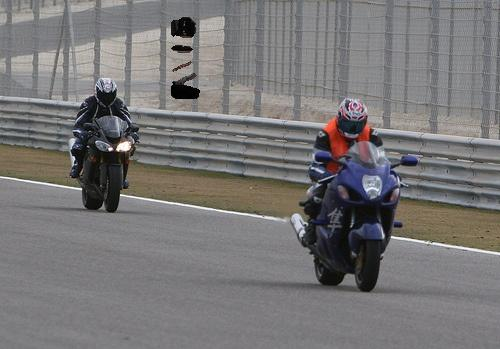tampered: (172, 18, 200, 99)
